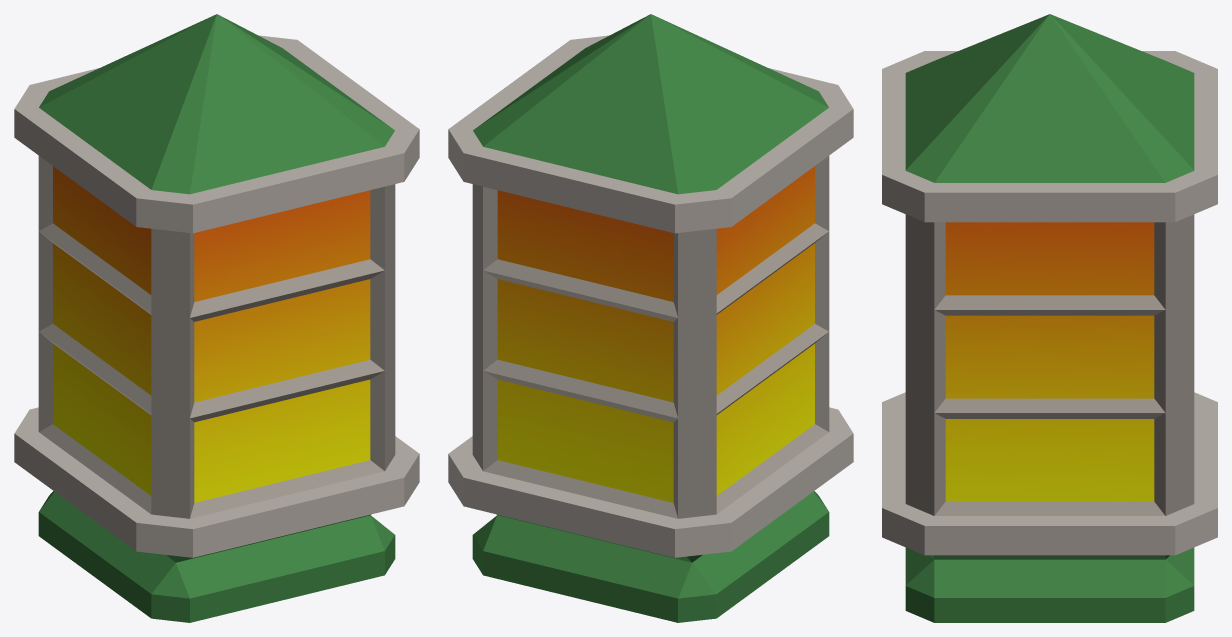
Rendered from m_dec_dung_lampFire_small.fbx.
3 renders of one model, left to right at view 1: azimuth 30°, elevation 25°; view 2: azimuth 150°, elevation 25°; view 3: azimuth 270°, elevation 25°, orthographic. The views are drawn at different scales.
Visible parts, largest first — view 1: m_dec_dung_lampFire_small; view 2: m_dec_dung_lampFire_small; view 3: m_dec_dung_lampFire_small.
Boxes of the visible parts, x1=… form: m_dec_dung_lampFire_small: x1=14, y1=14, x2=419, y2=622; m_dec_dung_lampFire_small: x1=448, y1=14, x2=853, y2=622; m_dec_dung_lampFire_small: x1=882, y1=14, x2=1217, y2=622.
Bounding box in the file's own units: 1.16 × 2.09 × 1.16.
